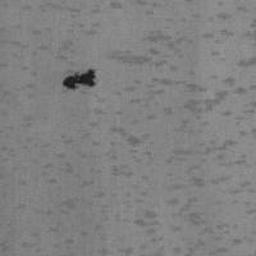Inclusion: (61, 67, 97, 91)
